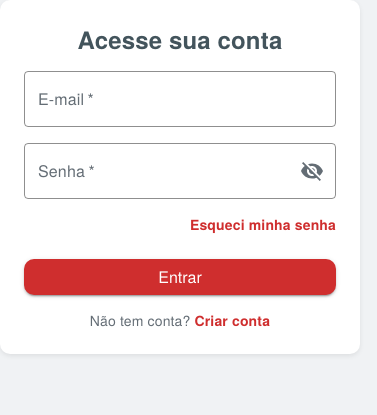
Test: LandingLoginCard › should name what comes before the at sign when the email carries an accent
The width and height of the screenshot is (377, 415).
Type "josé_silva@aluno.cps.sp.gov.br" into the field labelled "E-mail *" at (180, 99), box [24,71,336,127]
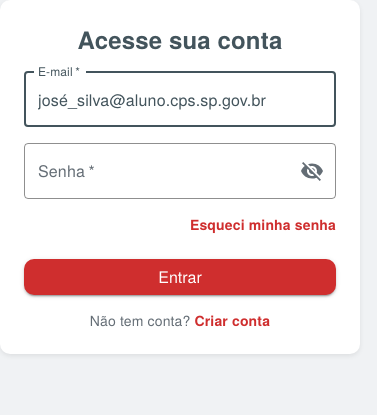
Type "segredo123" into the password field labelled "Senha *" at (154, 171), box [24,143,284,199]
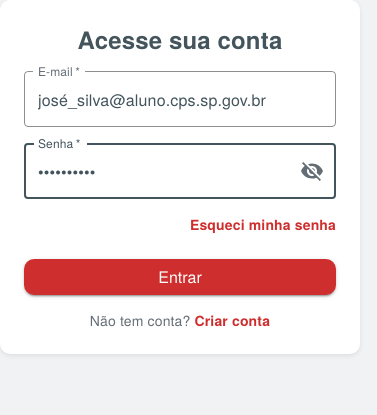
Click the button "Entrar" at (180, 277), box [24,259,336,295]
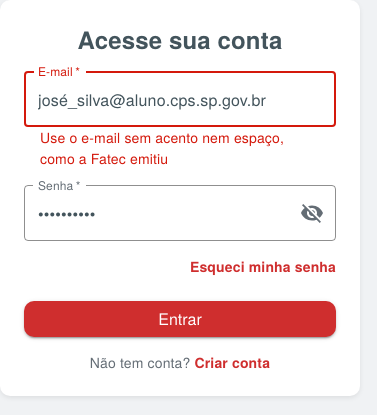
Expected: the text "Use o e-mail sem acento nem espaço, como a Fatec emitiu" is shown, [40,127,320,169]
